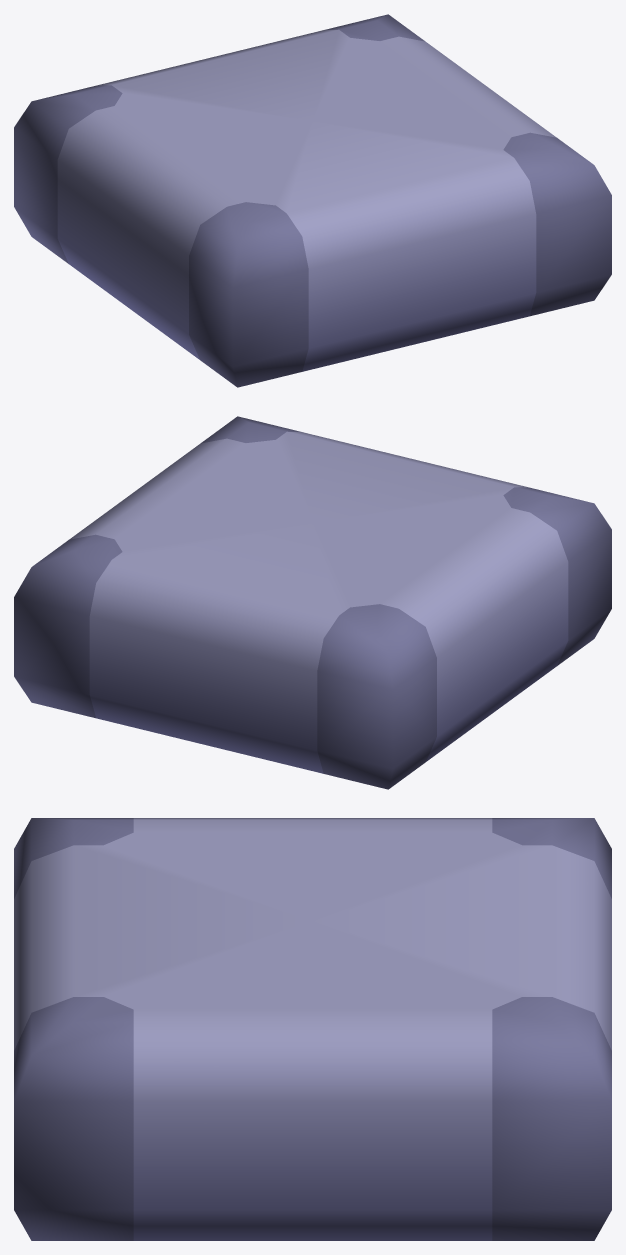
Rendered from kenney-factory-conveyor-stripe-sides-cross.glb.
3 views of the same model, one above another, from view 1: azimuth 30°, elevation 25°; view 2: azimuth 150°, elevation 25°; view 3: azimuth 270°, elevation 25° (orthographic). The views are drawn at different scales.
Parts seen in each view (by area): view 1: conveyor-stripe-sides-cross; view 2: conveyor-stripe-sides-cross; view 3: conveyor-stripe-sides-cross.
Part boxes in pixels (left/top/right/bottom): conveyor-stripe-sides-cross: left=14, top=14, right=611, bottom=387; conveyor-stripe-sides-cross: left=14, top=416, right=611, bottom=789; conveyor-stripe-sides-cross: left=14, top=818, right=611, bottom=1240.
Size of the model in its own units: 1.5 by 0.6 by 1.5.
1 material, 1 textured.
